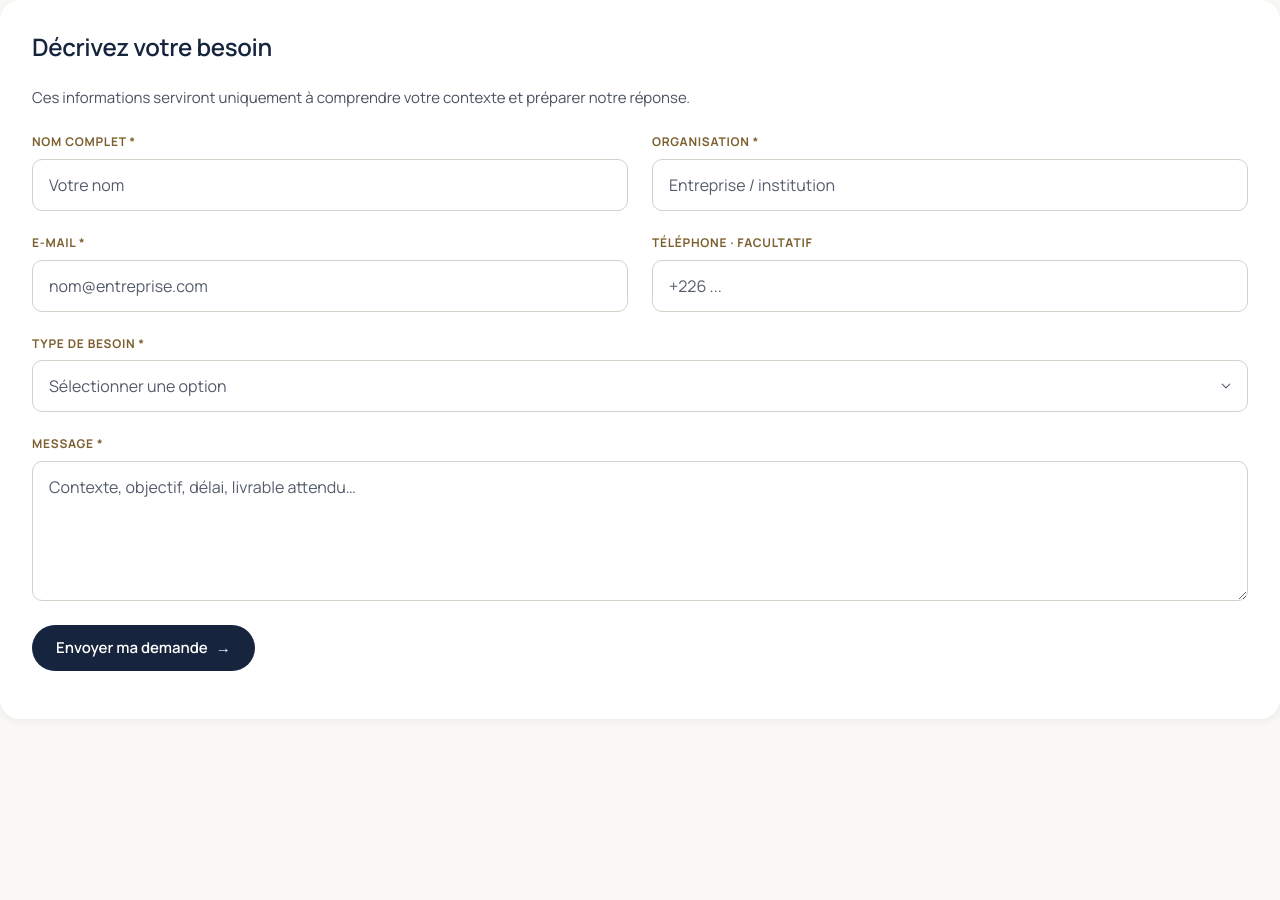
Test: ContactForm › refuse un envoi vide et signale les cinq champs obligatoires
Click the button "Envoyer ma demande →". click: (143, 648)
box: left=32, top=625, right=255, bottom=671
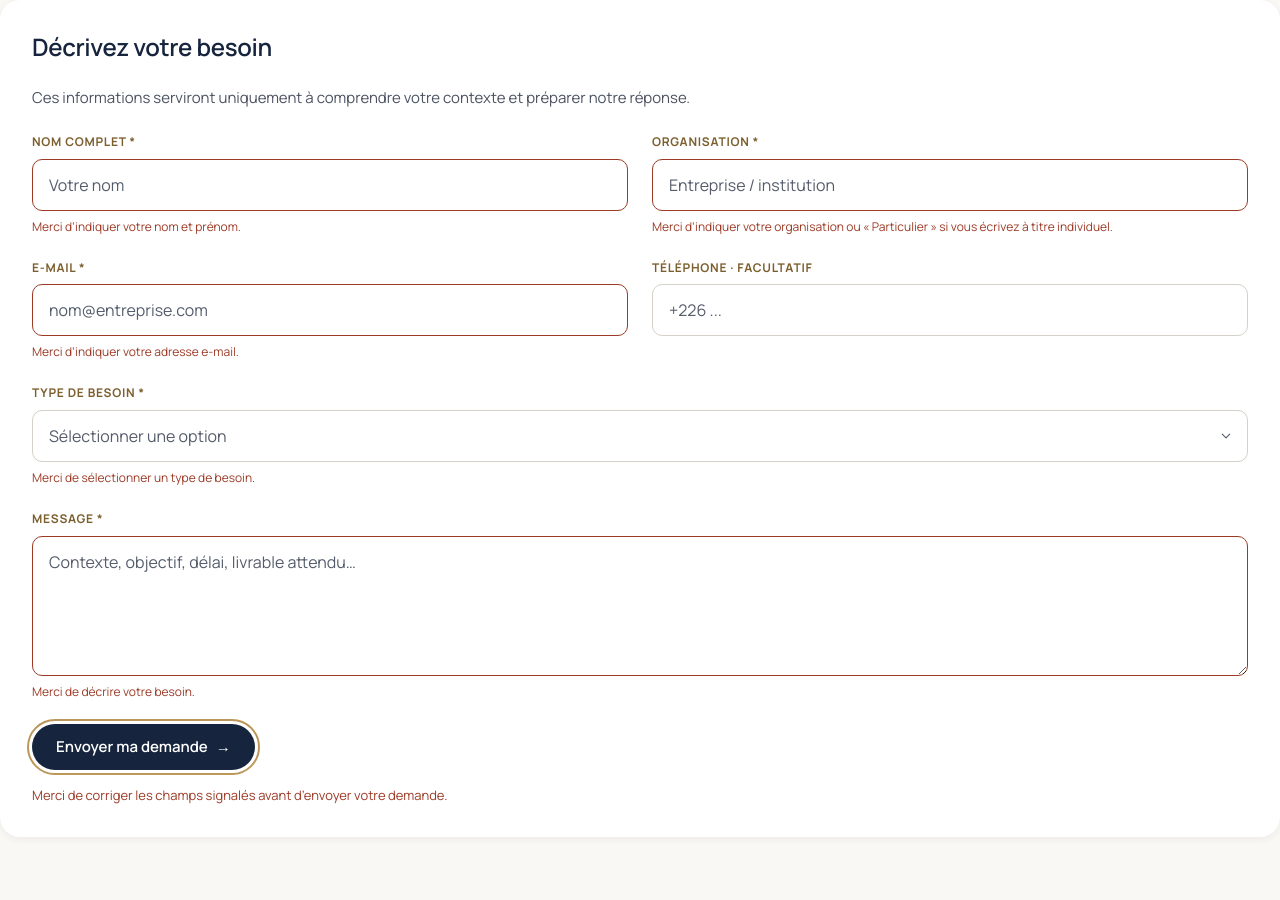
Now the message reads "Merci de corriger les champs signalés avant d’envoyer votre demande.", box left=32, top=786, right=448, bottom=804
